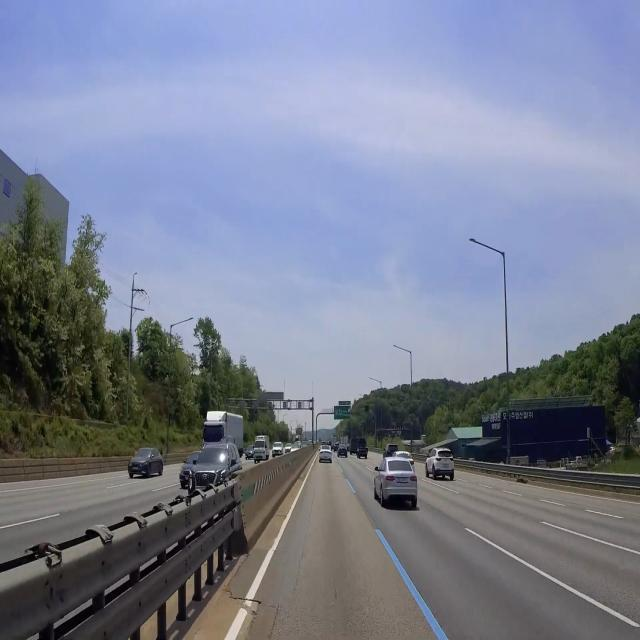car: (396, 476, 409, 485), (441, 463, 450, 469), (184, 475, 190, 484), (322, 454, 329, 461)
